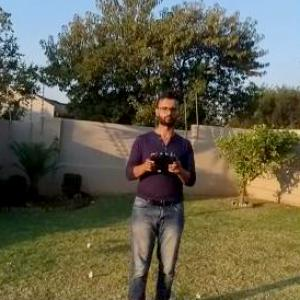follow: (115, 85, 199, 299)
